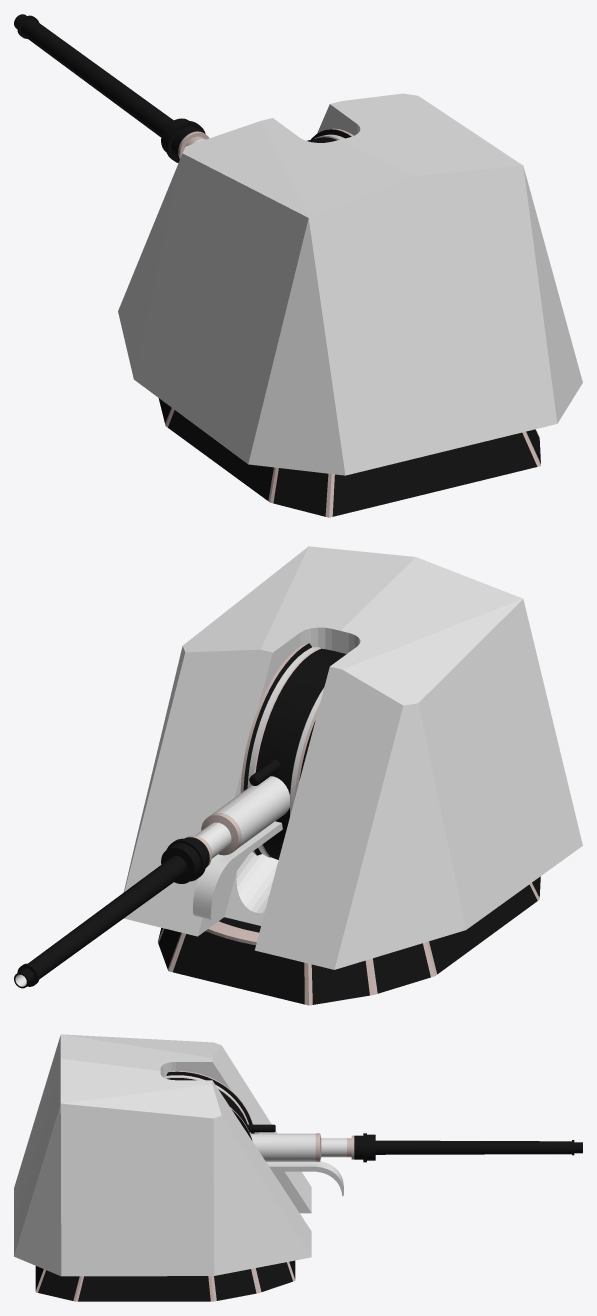
The picture shows the model from 3 angles, top to bottom: view 1: azimuth 30°, elevation 25°; view 2: azimuth 150°, elevation 25°; view 3: azimuth 270°, elevation 25°; orthographic projection. The views are drawn at different scales.
Parts seen in each view (by area): view 1: Turret_4, Base_5, Gun_3; view 2: Turret_4, Gun_3, Base_5; view 3: Turret_4, Gun_3, Base_5.
Boxes of the visible parts, x1=… form: Turret_4: x1=118, y1=93, x2=582, y2=475; Base_5: x1=158, y1=398, x2=540, y2=517; Gun_3: x1=14, y1=14, x2=353, y2=162; Turret_4: x1=123, y1=546, x2=582, y2=969; Gun_3: x1=14, y1=643, x2=346, y2=988; Base_5: x1=158, y1=876, x2=540, y2=1005; Turret_4: x1=14, y1=1034, x2=311, y2=1276; Gun_3: x1=164, y1=1070, x2=582, y2=1196; Base_5: x1=35, y1=1260, x2=295, y2=1301.
Bounding box in the file's own units: 0.8896 × 0.7662 × 1.98.
